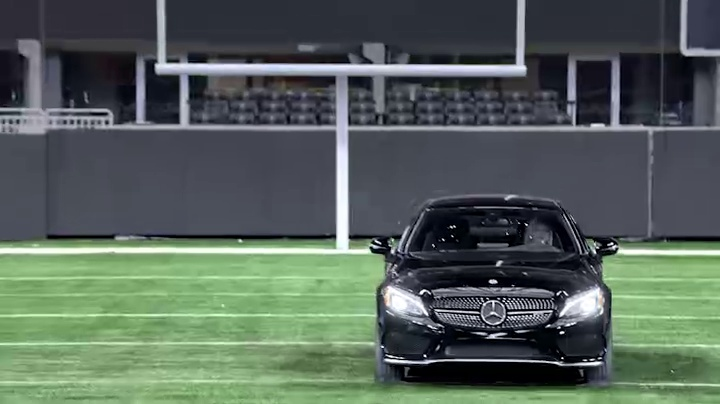amg: (366, 190, 619, 384)
